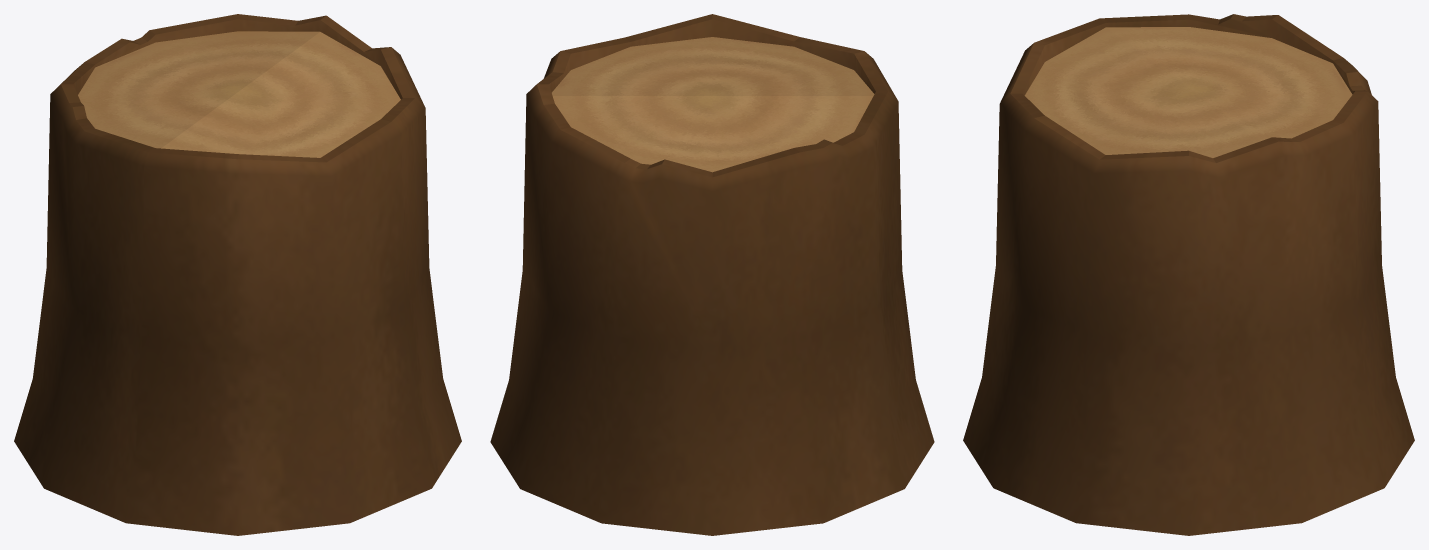
Rendered from Stump_2.fbx.
3 views of the same model, side by side, from view 1: azimuth 30°, elevation 25°; view 2: azimuth 150°, elevation 25°; view 3: azimuth 270°, elevation 25° (orthographic).
Parts seen in each view (by area): view 1: Cylinder.074; view 2: Cylinder.074; view 3: Cylinder.074.
Boxes of the visible parts, x1=… form: Cylinder.074: x1=14, y1=14, x2=461, y2=535; Cylinder.074: x1=490, y1=14, x2=934, y2=535; Cylinder.074: x1=963, y1=14, x2=1414, y2=535.
Bounding box in the file's own units: 45.29 × 40.27 × 45.29.
2 materials, 2 textured.
